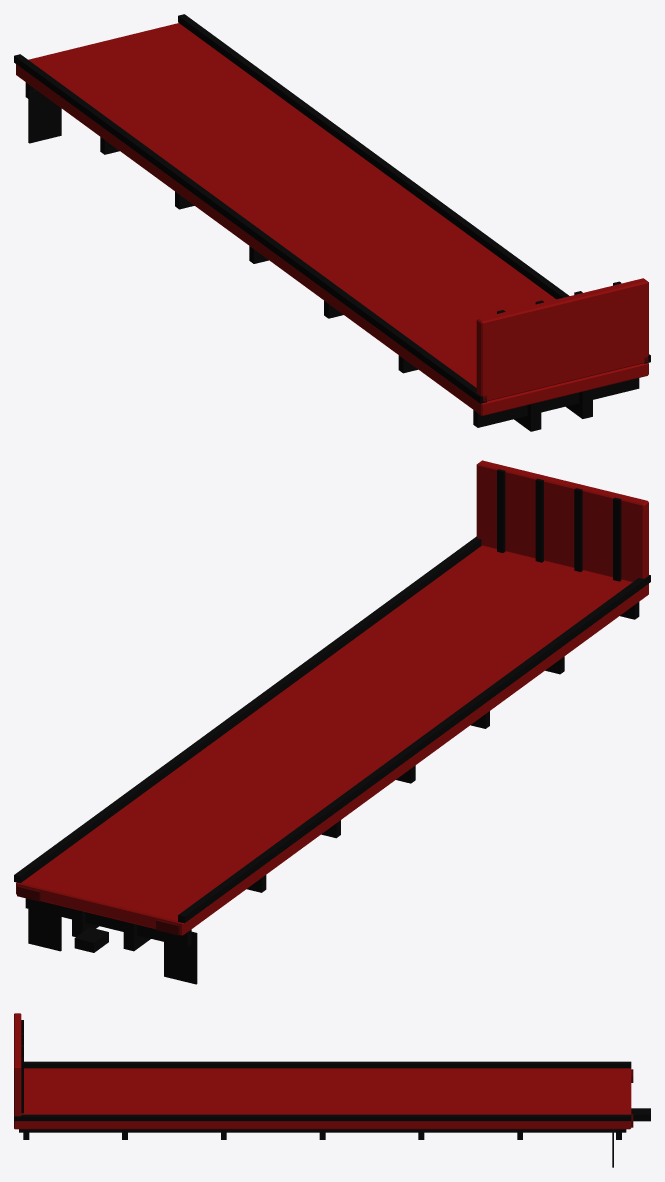
Rendered from Semi Trailer.obj.
3 views of the same model, one above another, from view 1: azimuth 30°, elevation 25°; view 2: azimuth 150°, elevation 25°; view 3: azimuth 270°, elevation 25° (orthographic). The views are drawn at different scales.
Visible parts, largest first — view 1: Body, Trim; view 2: Body, Trim; view 3: Body, Trim.
Boxes of the visible parts, left/top/right/bottom form: Body: left=16, top=23, right=648, bottom=416; Trim: left=14, top=14, right=650, bottom=431; Body: left=16, top=460, right=648, bottom=935; Trim: left=14, top=469, right=650, bottom=984; Body: left=14, top=1013, right=631, bottom=1129; Trim: left=14, top=1020, right=650, bottom=1167.
Size of the model in its own units: 2.64 by 2.25 by 12.9.
